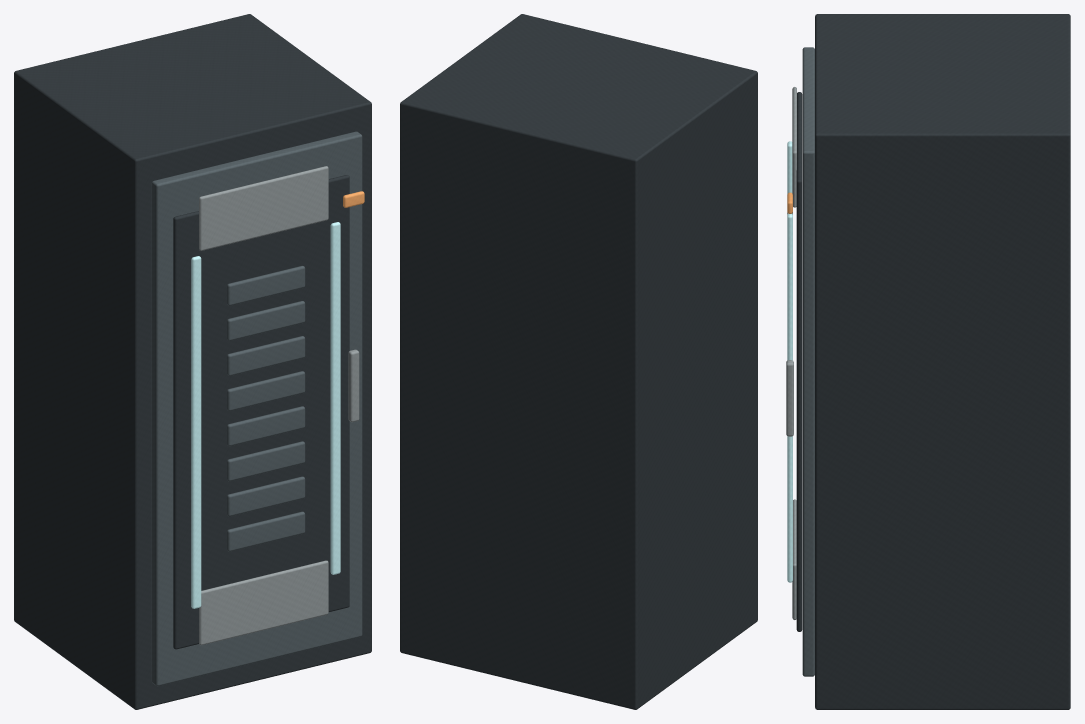
Rendered from ServerRack.glb.
3 renders of one model, left to right at view 1: azimuth 30°, elevation 25°; view 2: azimuth 150°, elevation 25°; view 3: azimuth 270°, elevation 25°, orthographic. The views are drawn at different scales.
Parts seen in each view (by area): view 1: ServerRack_Mesh; view 2: ServerRack_Mesh; view 3: ServerRack_Mesh.
Boxes of the visible parts, left/top/right/bottom form: ServerRack_Mesh: left=14, top=14, right=371, bottom=709; ServerRack_Mesh: left=400, top=14, right=757, bottom=709; ServerRack_Mesh: left=786, top=14, right=1070, bottom=709.
Bounding box in the file's own units: 0.92 × 2.04 × 0.9125.
Materials: 5 (5 with a texture image).
